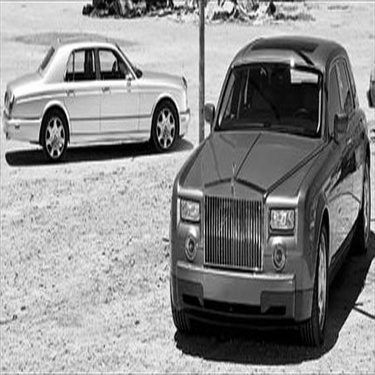car: (149, 35, 372, 349), (1, 34, 190, 156)
